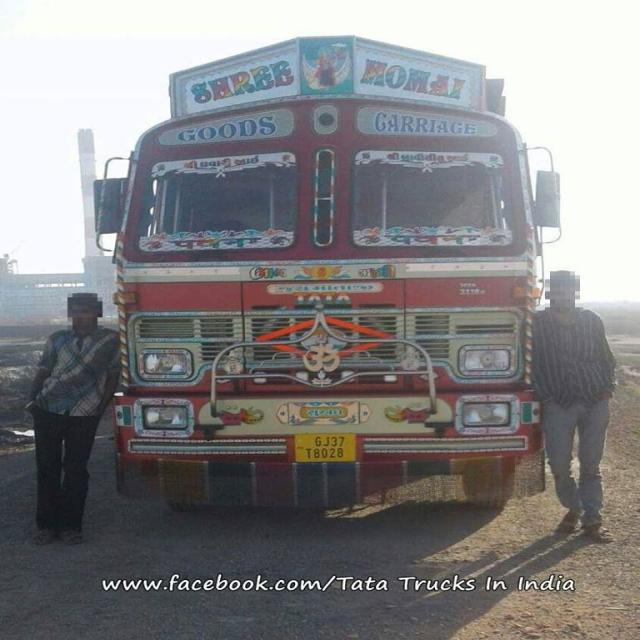truck: (100, 22, 545, 534)
